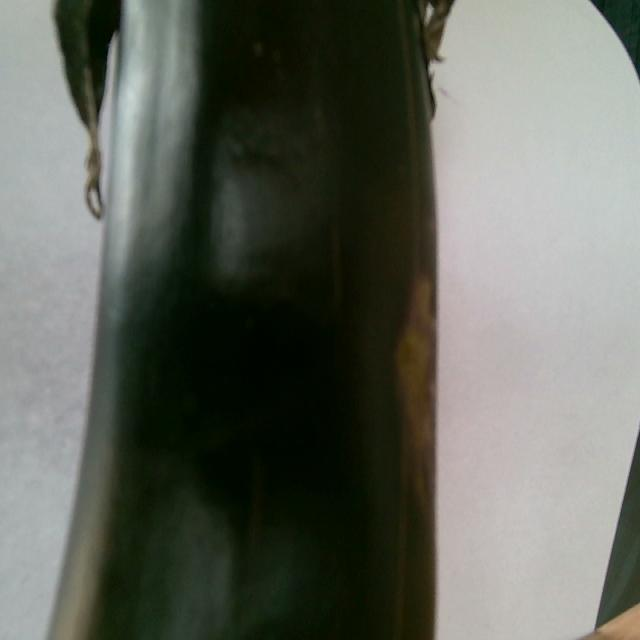Egg plant: (51, 0, 443, 637), (88, 191, 101, 213)
